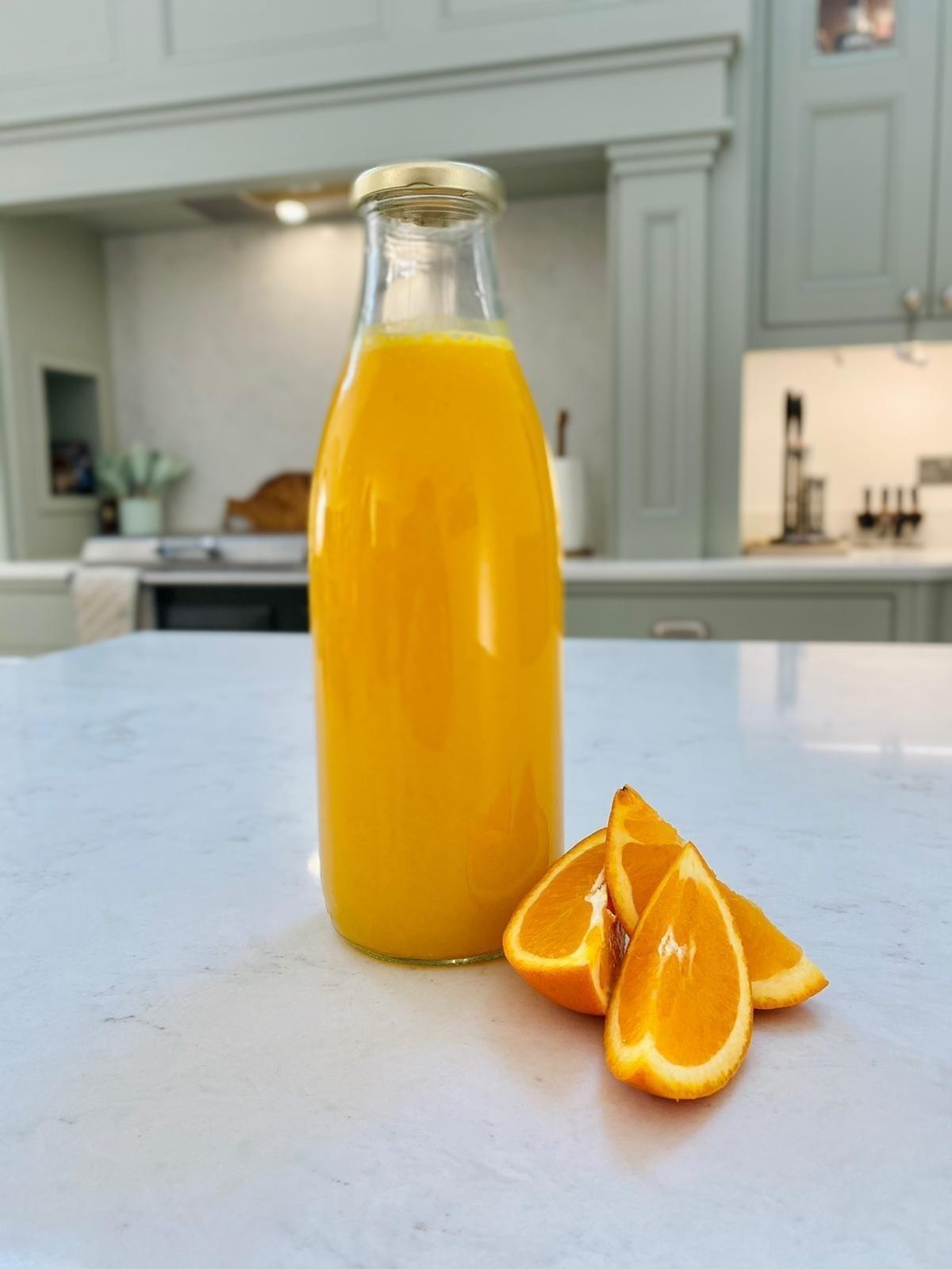bottle-glass: (299, 155, 576, 980)
